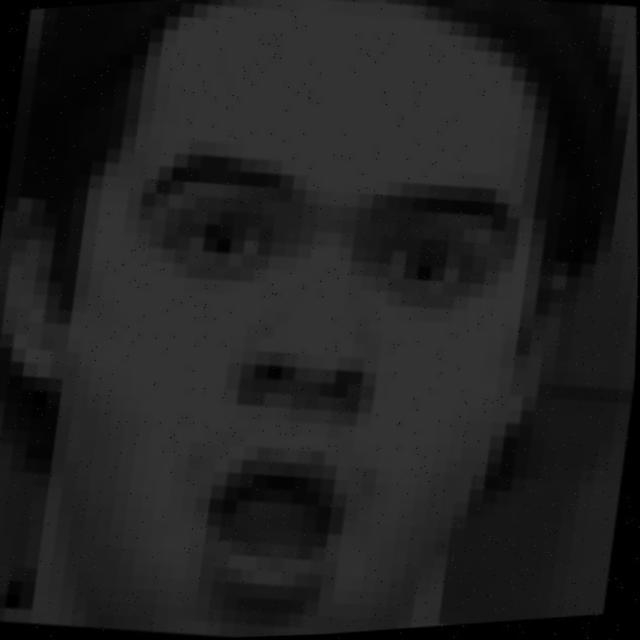Surprised: (79, 76, 542, 640)
